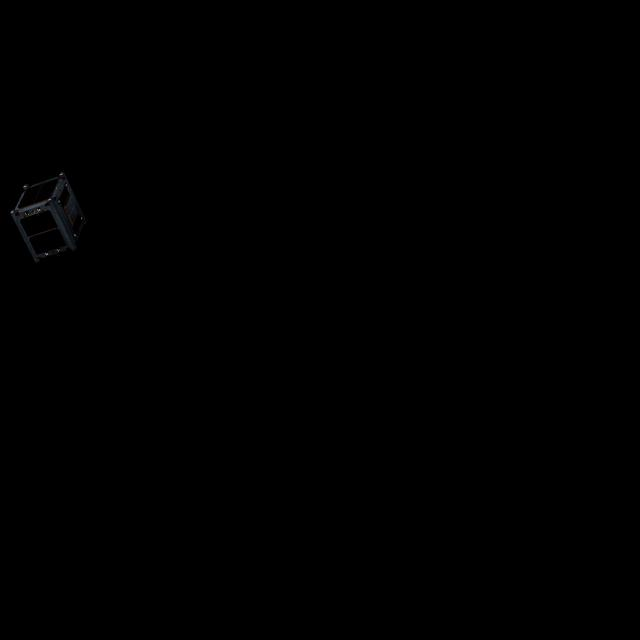medium_debris: (12, 172, 94, 262)
